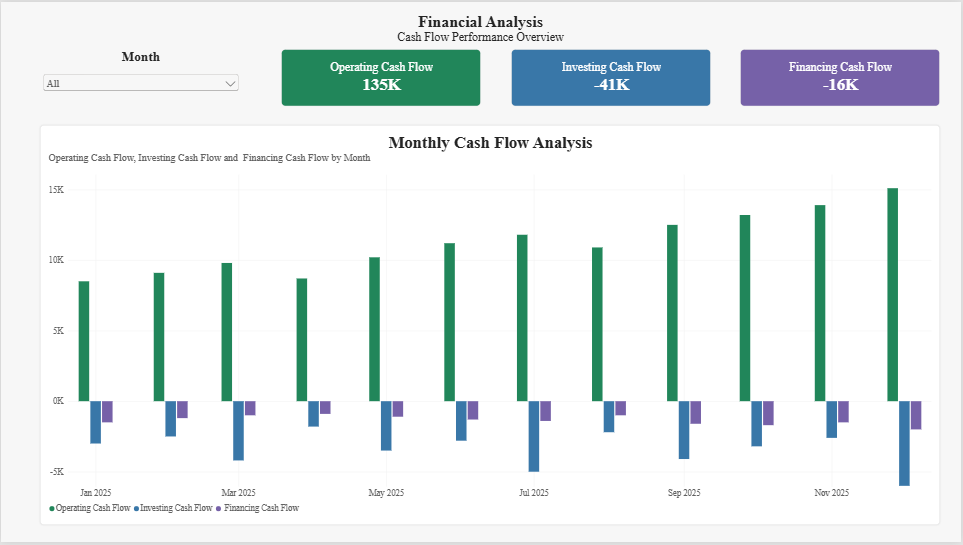

Layout of this report page (visuals, bound fields, positions):
{"tool":"powerbi","page":{"name":"Cash Flow Analysis","canvas":[1920,1080],"ordinal":1},"visuals":[{"type":"clusteredColumnChart","title":"Monthly Cash Flow Analysis","fields":{"Category":["Financial_Data.Month"],"Y":["Sum(Financial_Data.Operating_Cash_Flow)","Sum(Financial_Data.Investing_Cash_Flow)","Sum(Financial_Data.Financing_Cash_Flow)"]},"box":[78,246,1800,800],"z":0},{"type":"cardVisual","fields":{"Data":["Sum(Financial_Data.Operating_Cash_Flow)"]},"box":[560,94,400,115],"z":1000},{"type":"cardVisual","fields":{"Data":["Sum(Financial_Data.Investing_Cash_Flow)"]},"box":[1020,94,400,115],"z":2000},{"type":"cardVisual","fields":{"Data":["Sum(Financial_Data.Financing_Cash_Flow)"]},"box":[1478,94,400,115],"z":3000},{"type":"slicer","title":"Month","fields":{"Values":["Financial_Data.Month"]},"box":[80,94,400,115],"z":4000},{"type":"textbox","box":[0,20,1918,74],"z":5000}]}

Visuals, with their boxes in screenshot pixels (x1, y1, x2, y2), scaled from the page's 1920x1080 canvas onto the 963x545 screenshot:
"Monthly Cash Flow Analysis" clusteredColumnChart: region(39, 124, 942, 528)
cardVisual - Sum(Financial_Data.Operating_Cash_Flow): region(281, 47, 482, 105)
cardVisual - Sum(Financial_Data.Investing_Cash_Flow): region(512, 47, 712, 105)
cardVisual - Sum(Financial_Data.Financing_Cash_Flow): region(741, 47, 942, 105)
"Month" slicer: region(40, 47, 241, 105)
textbox: region(0, 10, 962, 47)
